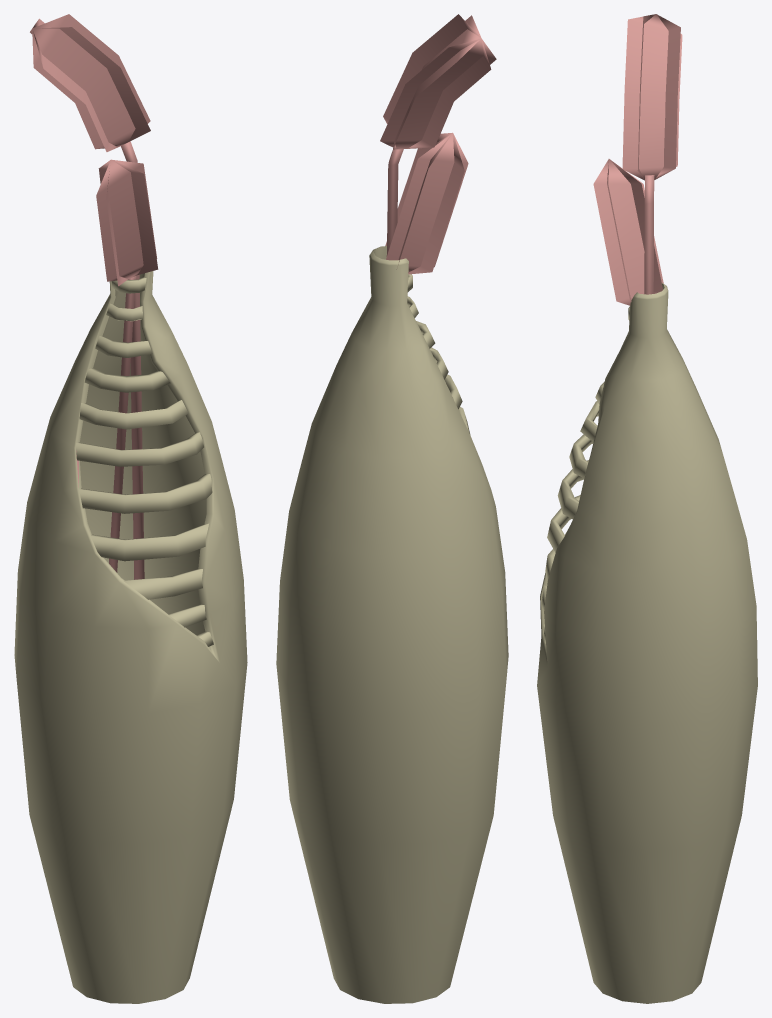
The model's file is TCHP0401.FBX.
3 views of the same model, side by side, from view 1: azimuth 30°, elevation 25°; view 2: azimuth 150°, elevation 25°; view 3: azimuth 270°, elevation 25° (orthographic). The views are drawn at different scales.
Visible parts, largest first — view 1: TCHP0401; view 2: TCHP0401; view 3: TCHP0401.
Boxes of the visible parts, x1,y1,x2,y2 form: TCHP0401: (14, 14, 247, 1003); TCHP0401: (276, 14, 508, 1003); TCHP0401: (537, 14, 757, 1003).
Size of the model in its own units: 11 by 11 by 51.3.
